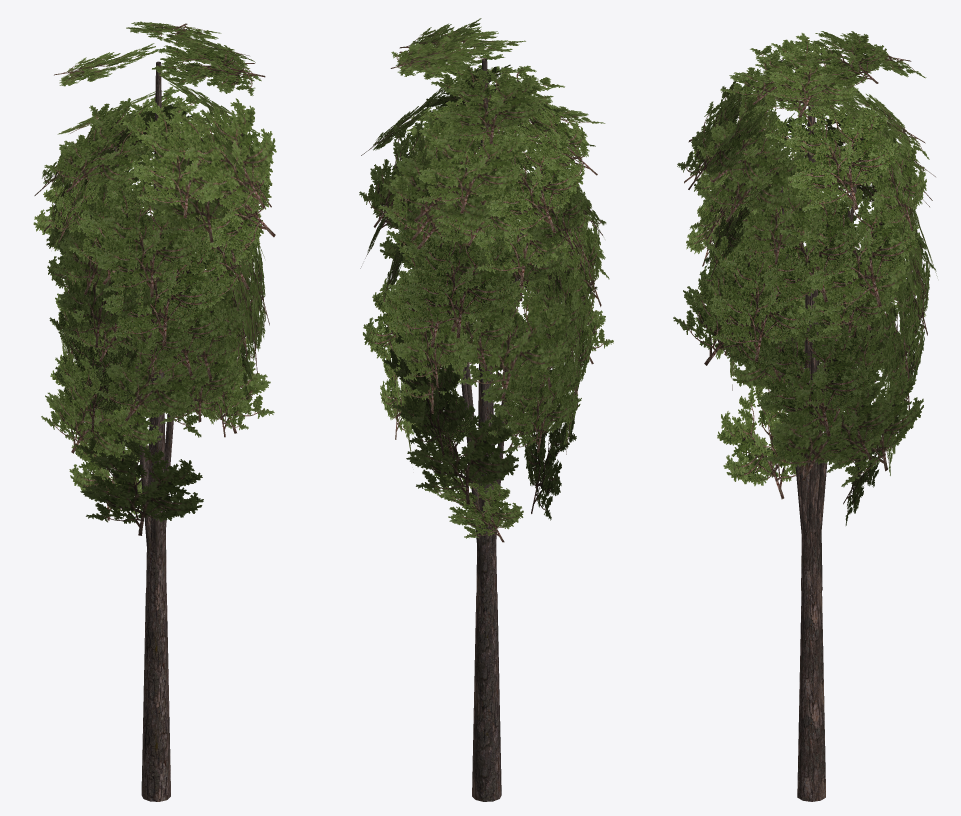
Rendered from tree_poplar.obj.
The picture shows the model from 3 angles, left to right: view 1: azimuth 30°, elevation 25°; view 2: azimuth 150°, elevation 25°; view 3: azimuth 270°, elevation 25°; orthographic projection.
Visible parts, largest first — view 1: Poplar_Branches, Poplar_Bark; view 2: Poplar_Branches, Poplar_Bark; view 3: Poplar_Branches, Poplar_Bark.
Boxes of the visible parts, x1,y1,x2,y2 form: Poplar_Branches: (33, 21, 276, 535); Poplar_Bark: (114, 61, 196, 801); Poplar_Branches: (359, 18, 613, 542); Poplar_Bark: (461, 58, 523, 801); Poplar_Branches: (673, 31, 937, 525); Poplar_Bark: (774, 80, 859, 801).
Bounding box in the file's own units: 5.29 × 15.83 × 5.4.
2 materials, 2 textured.
